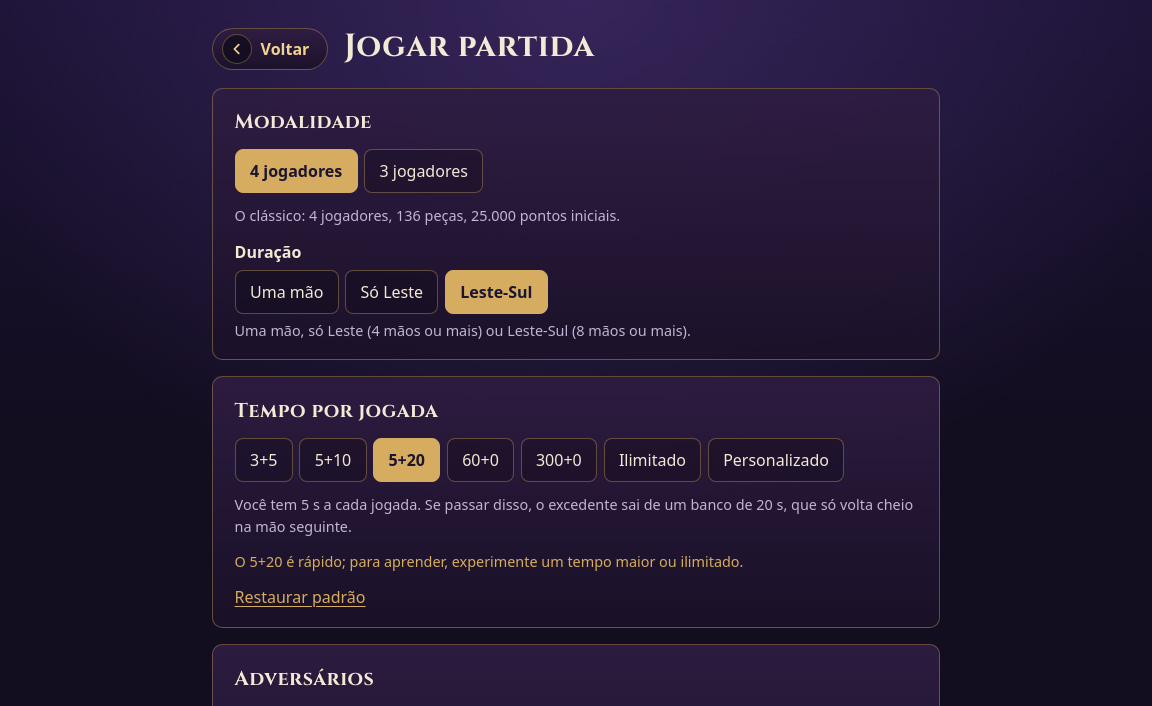
Test: Jogar partida (spec 6.6) › tempo personalizado é validado
The image size is (1152, 706).
Click the radio button labelled "Personalizado".
click(776, 460)  # box x1=708 y1=438 x2=844 y2=482
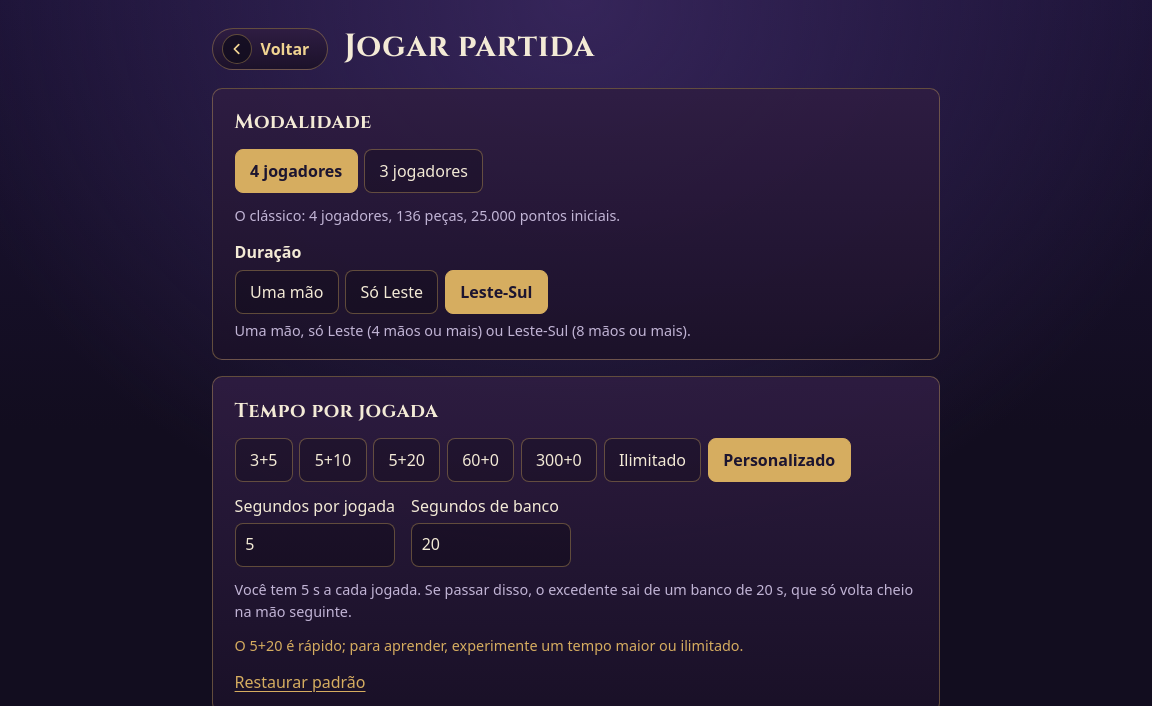
Replace the text in the number field labelled "Segundos por jogada" with "0" at (315, 545), box x1=235 y1=523 x2=395 y2=567
(page scrolled)
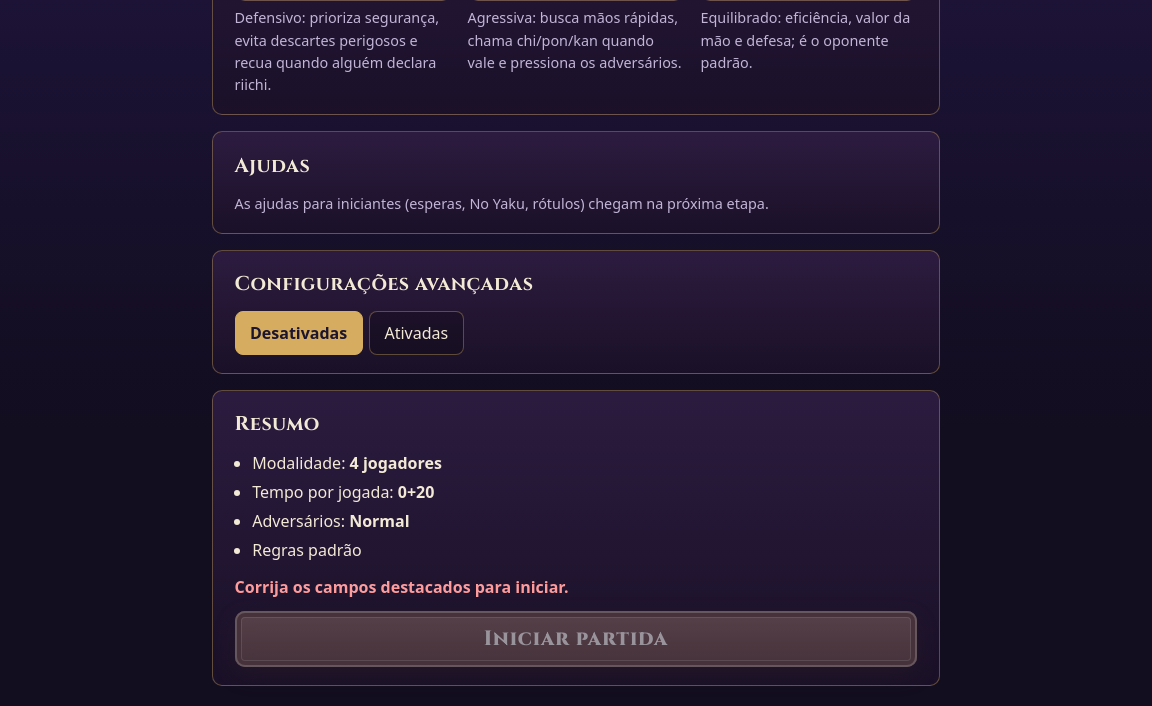
Check: the button "Iniciar partida" is disabled, box x1=235 y1=611 x2=917 y2=667
